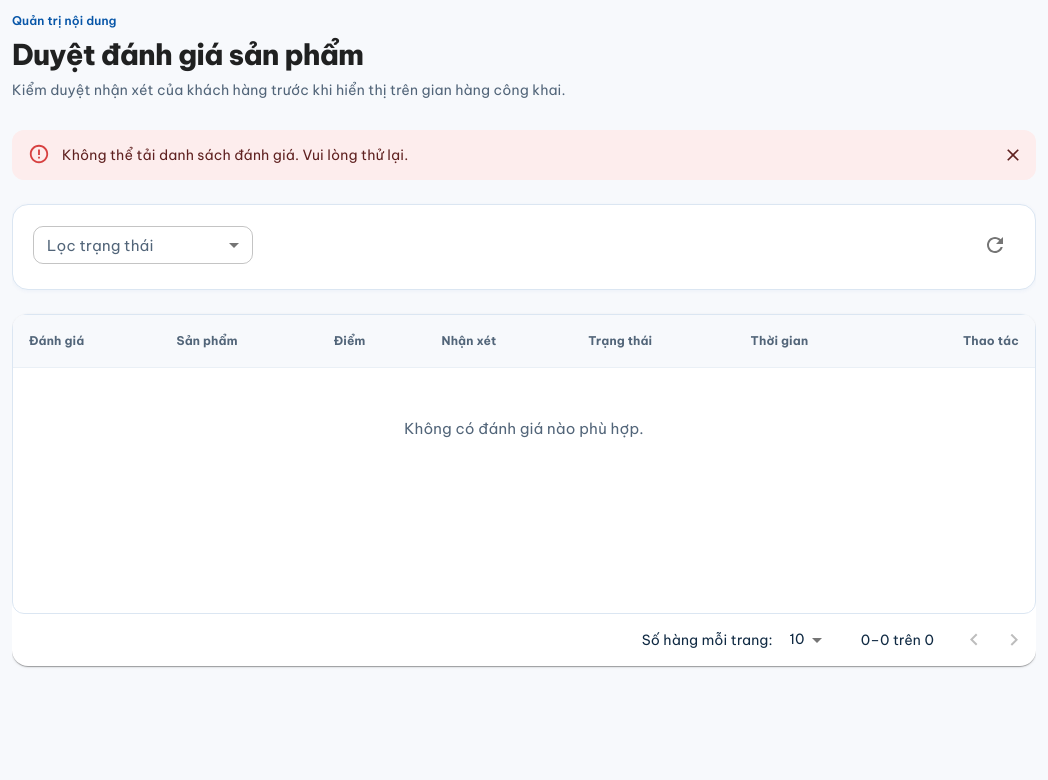
Test: AdminReviewsPage › shows API errors and allows retry
Check: the text "Không thể tải danh sách đánh giá. Vui lòng thử lại." is shown, box [62,146,408,164]
Click the button named "làm mới danh sách đánh giá" at (995, 245), box [975,225,1015,265]
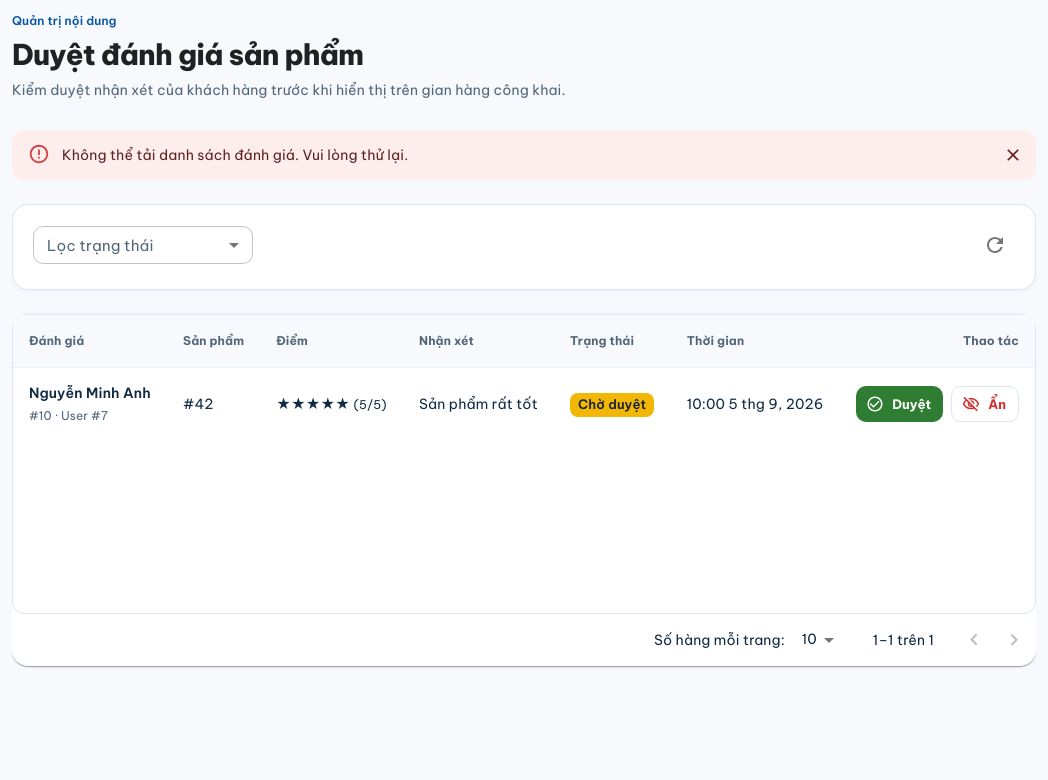
Check: the text "Sản phẩm rất tốt" is shown, box [403,368,554,441]
